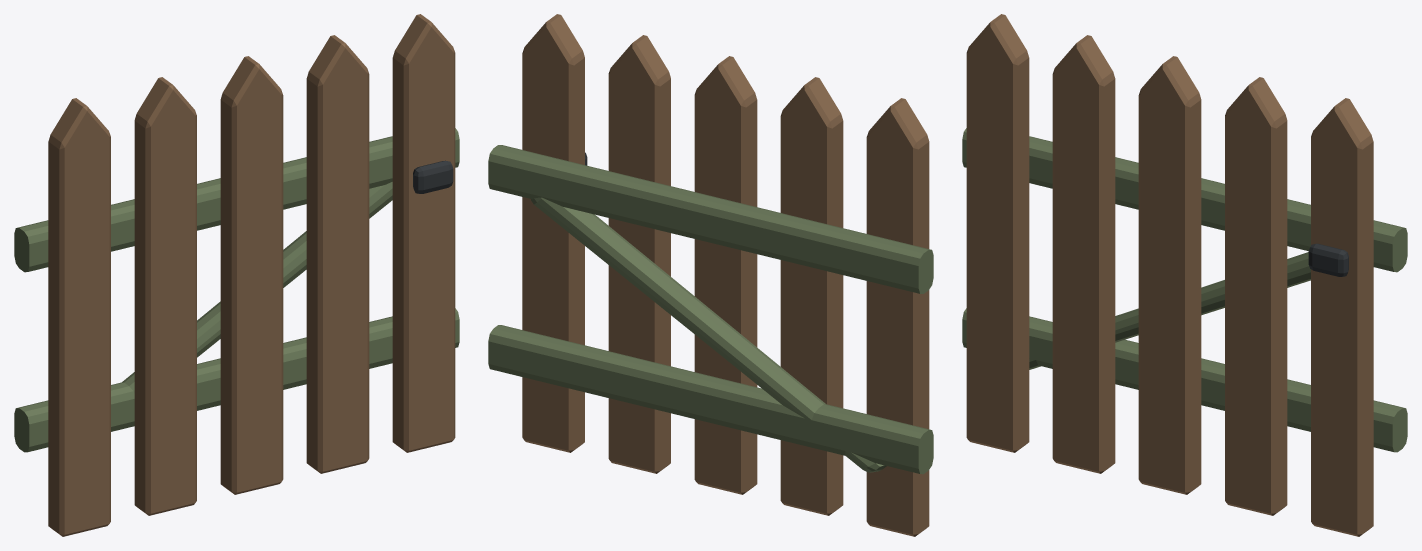
File: SM_Kit_Fence_Picket_Gate.glb
The picture shows the model from 3 angles, left to right: view 1: azimuth 30°, elevation 25°; view 2: azimuth 150°, elevation 25°; view 3: azimuth 330°, elevation 25°; orthographic projection.
Parts seen in each view (by area): view 1: SM_Kit_Fence_Picket_Gate; view 2: SM_Kit_Fence_Picket_Gate; view 3: SM_Kit_Fence_Picket_Gate.
Boxes of the visible parts, x1,y1,x2,y2 form: SM_Kit_Fence_Picket_Gate: [14, 14, 459, 536]; SM_Kit_Fence_Picket_Gate: [488, 14, 933, 536]; SM_Kit_Fence_Picket_Gate: [962, 14, 1407, 536].
Bounding box in the file's own units: 1 × 0.9436 × 0.15.
